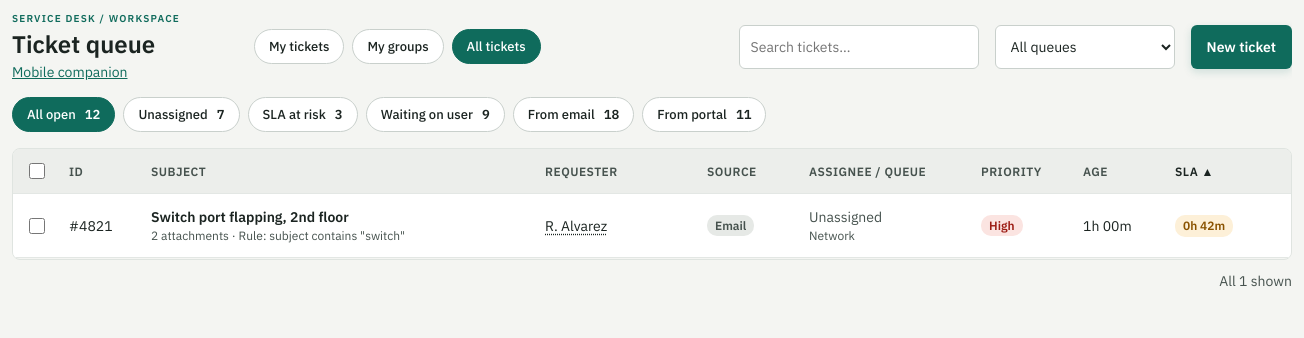
Scenario: queue › shows the view counts and rows, and switches views
The image size is (1304, 338).
Expected: the text "#4821" is shown, top-left (69, 216), bottom-right (113, 234)
Expected: the text "2 attachments · Rule: subject contains \"switch\"" is shown, top-left (151, 228), bottom-right (405, 243)
Click the button "SLA at risk 3" at (303, 114), box top-left (248, 97), bottom-right (358, 132)
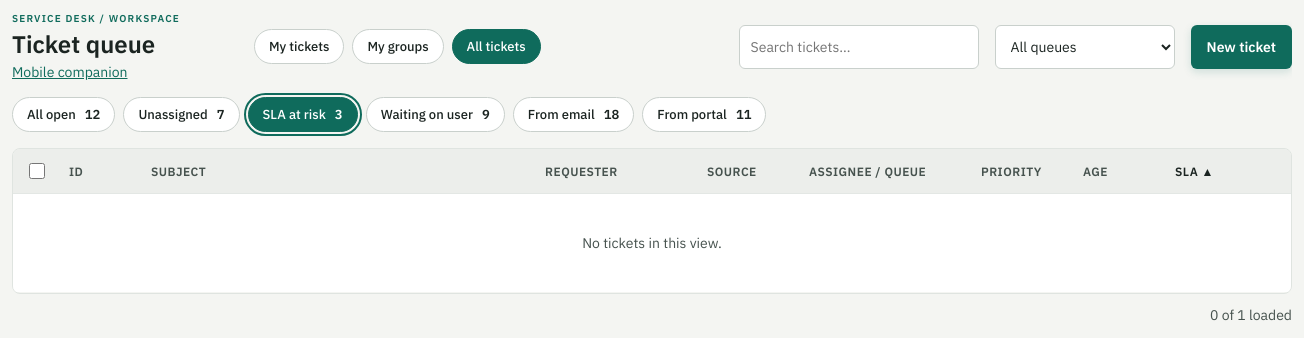
Now the text "No tickets in this view." is shown, box top-left (13, 194), bottom-right (1291, 292)
